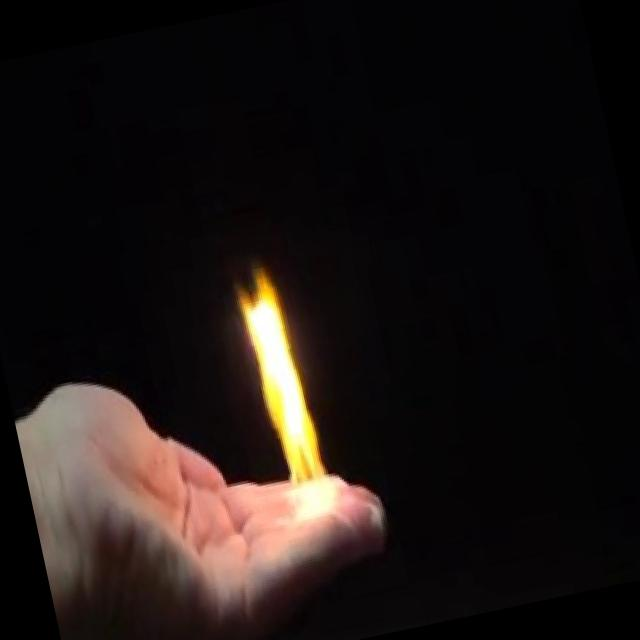Smoke: (222, 242, 351, 544)
